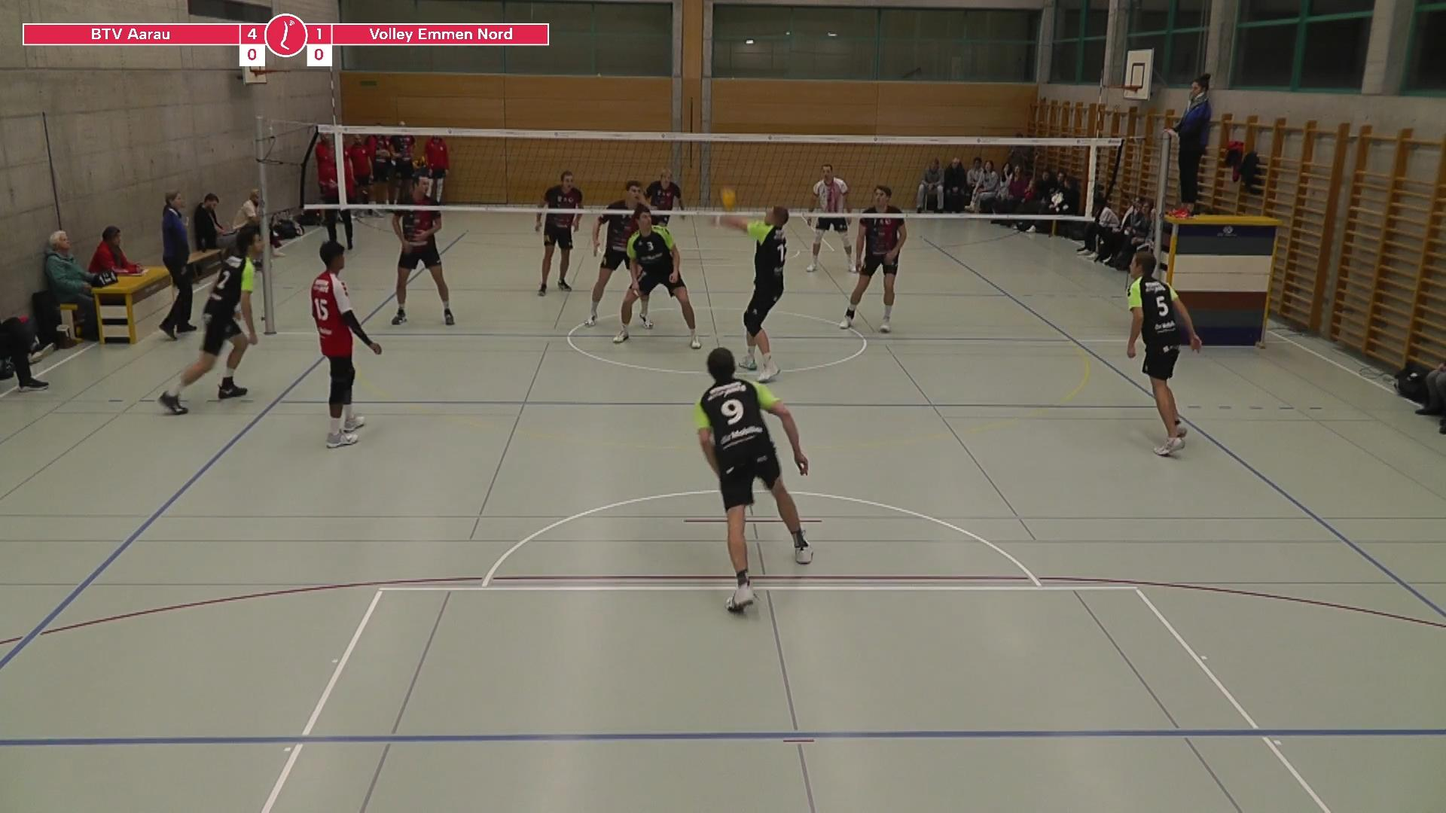Player: (694, 347, 812, 612), (158, 226, 263, 414), (1127, 251, 1201, 455), (311, 240, 381, 448), (614, 206, 700, 349), (839, 186, 907, 333), (584, 181, 642, 326), (392, 209, 454, 325), (807, 163, 853, 272), (535, 213, 581, 295), (645, 168, 682, 225)
Set: (703, 187, 793, 388)
ball: (710, 181, 741, 211)
